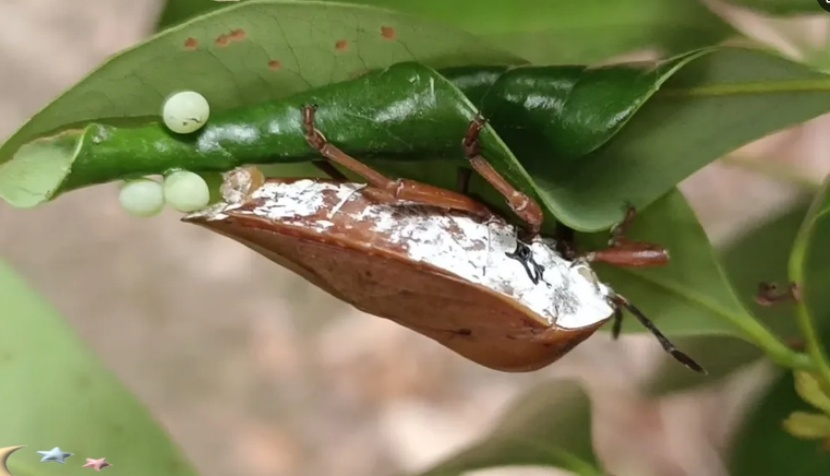Stink_Bug: (127, 88, 704, 370)
